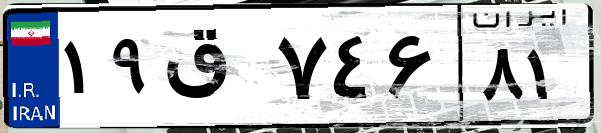1: (57, 26, 110, 100), (525, 38, 570, 115)
4: (330, 28, 385, 110)
6: (385, 28, 445, 110)
7: (270, 28, 330, 110)
8: (475, 38, 525, 113)
9: (110, 28, 158, 98)
ق: (158, 20, 270, 120)
